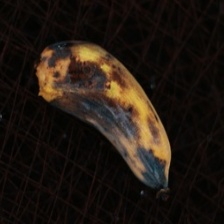banana: (16, 0, 180, 193)
